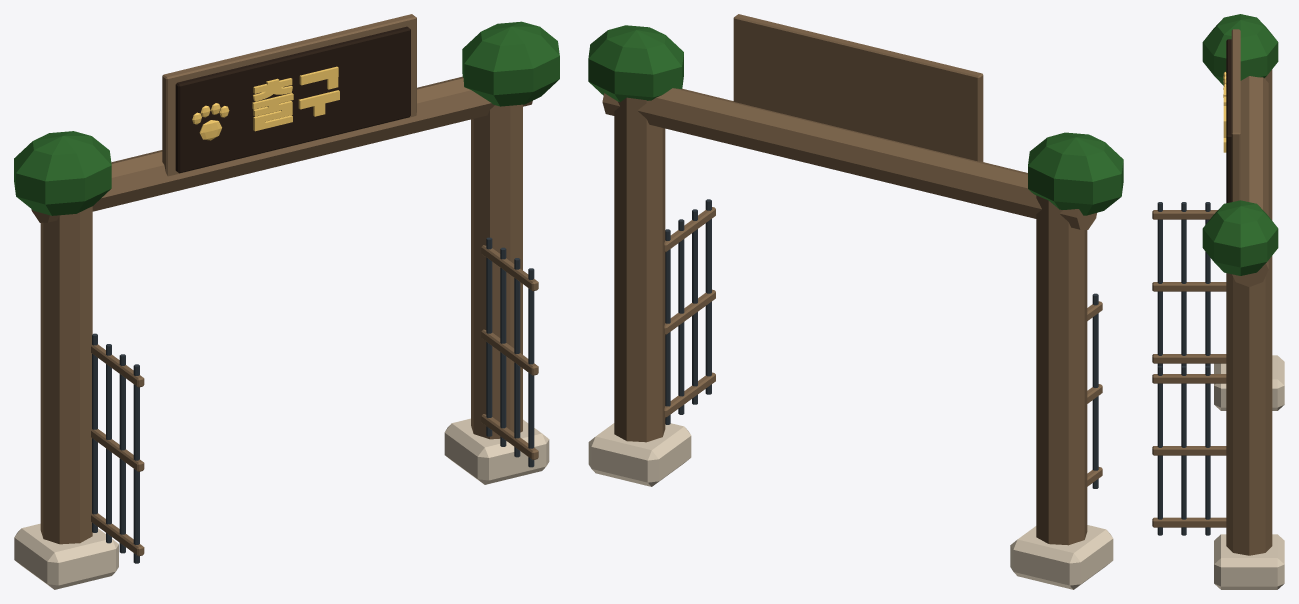
File: MD_Zoo_Exit.fbx
3 renders of one model, left to right at view 1: azimuth 30°, elevation 25°; view 2: azimuth 150°, elevation 25°; view 3: azimuth 270°, elevation 25°, orthographic. The views are drawn at different scales.
Visible parts, largest first — view 1: MD_Zoo_Exit; view 2: MD_Zoo_Exit; view 3: MD_Zoo_Exit.
Part boxes in pixels (x1,y1,x2,y2): MD_Zoo_Exit: (14,14,559,589); MD_Zoo_Exit: (588,14,1123,589); MD_Zoo_Exit: (1152,14,1284,589).
Bounding box in the file's own units: 605 × 510 × 150.
